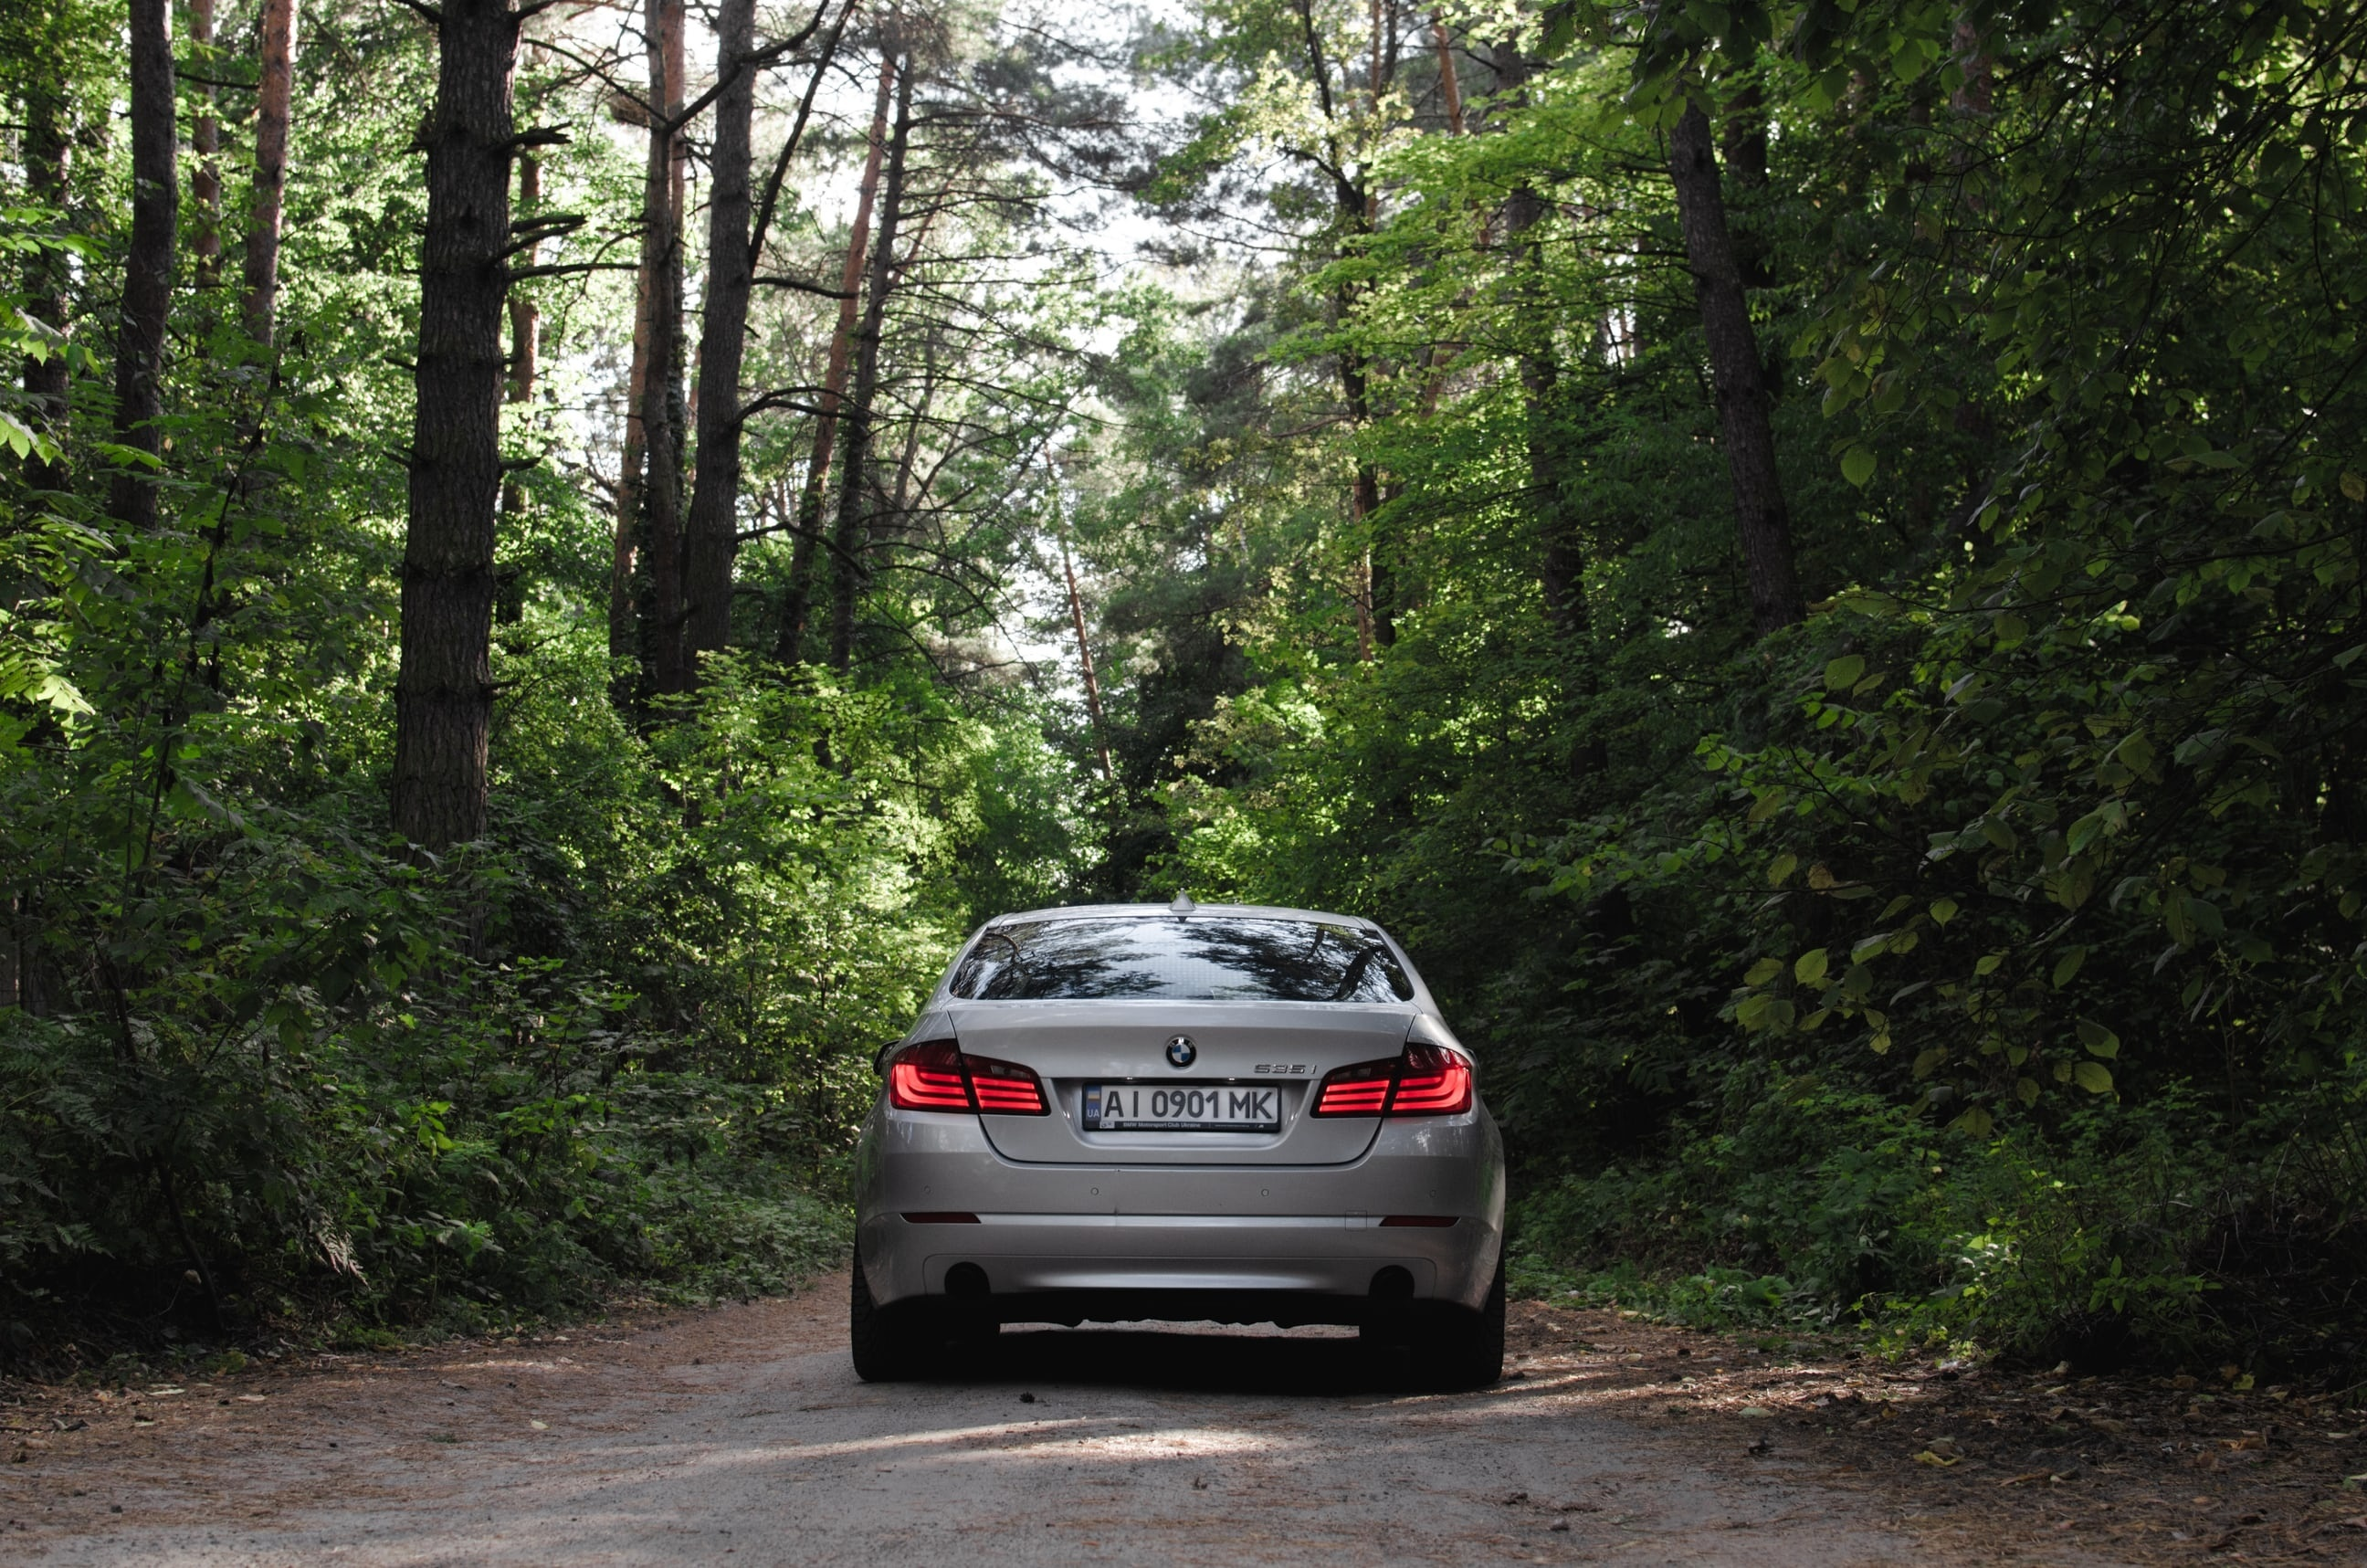plaka: (1079, 1081, 1281, 1125)
